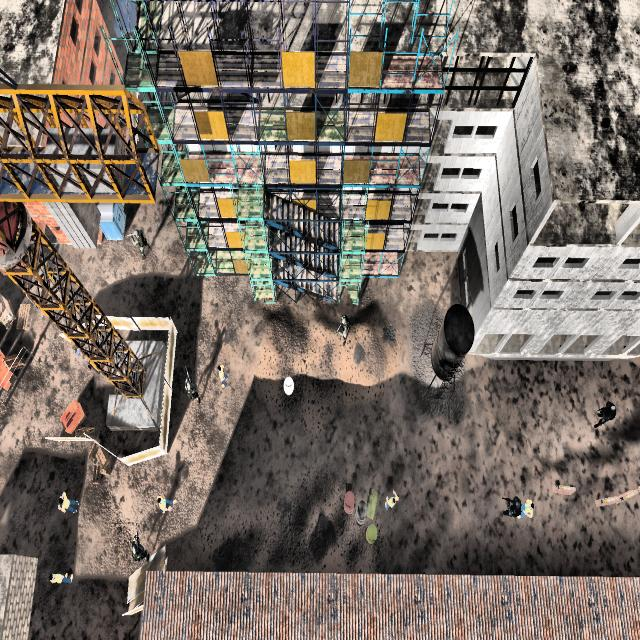bad: (130, 522, 150, 572), (129, 221, 152, 264), (591, 396, 617, 432), (499, 488, 523, 524), (183, 368, 202, 412), (335, 307, 353, 352)
good: (52, 486, 80, 522), (154, 490, 179, 519), (45, 570, 76, 590), (216, 354, 230, 397), (518, 493, 537, 524), (383, 482, 398, 518)
